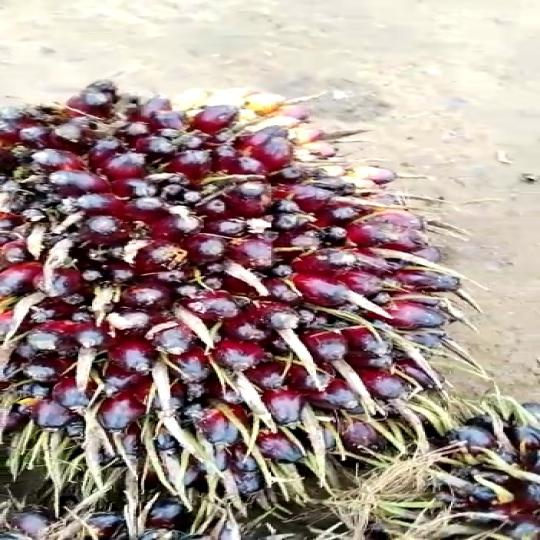mentah: (0, 81, 463, 490)
